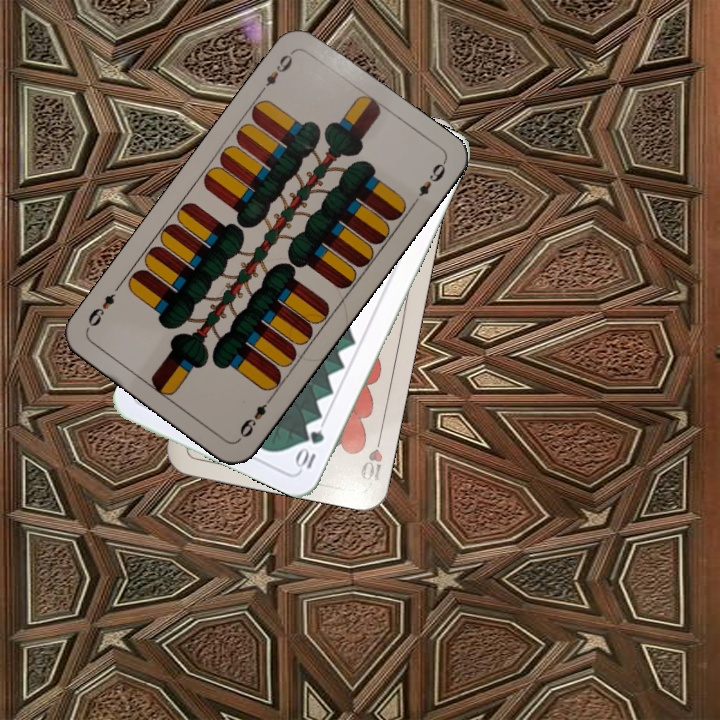E9: (234, 392, 276, 443), (255, 47, 297, 97)
G10: (292, 425, 327, 474)
H10: (356, 428, 385, 485)
